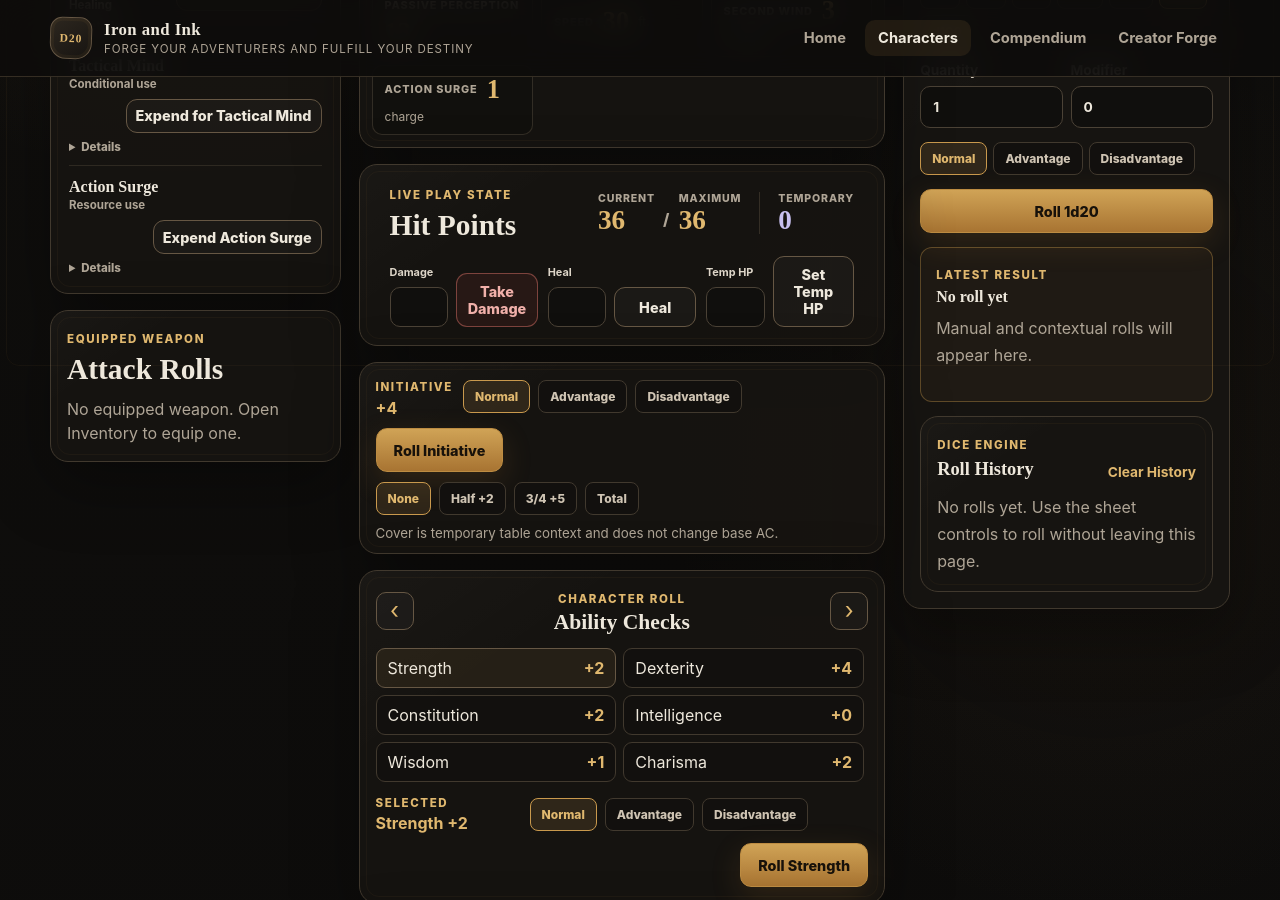
Test: Milestone 13A PLAY Initiative and temporary Cover flow › rolls Initiative from PLAY through manual plus automatic D20 context with transparent history
This screenshot has width=1280, height=900.
(page scrolled)
Click the button "Roll Initiative": (439, 450) [376,428,503,472]
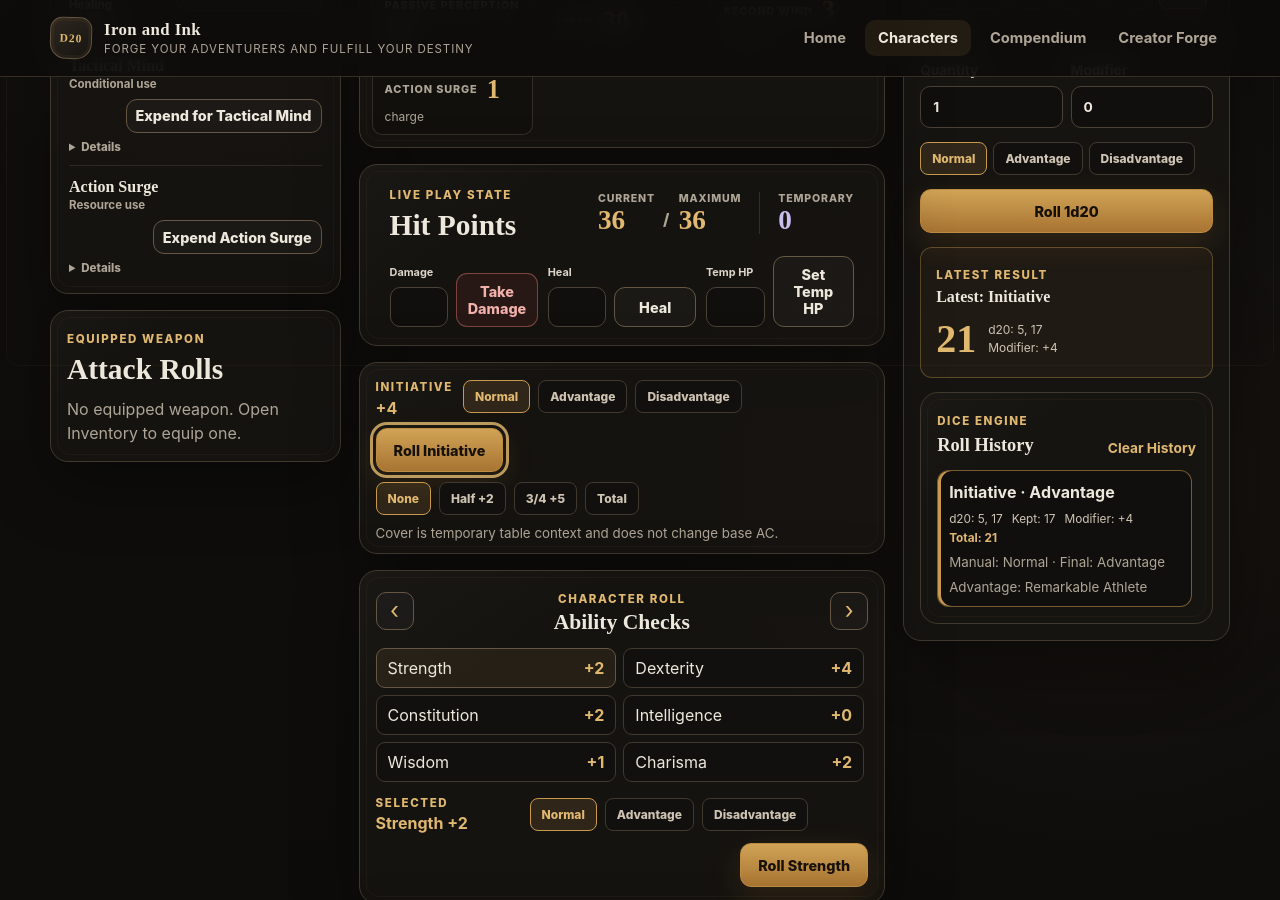
Expected: the text "d20: 5, 17" next to "Kept:" is shown, [949,512,1003,526]
Expected: the text "Total: 21" is shown, [949,531,997,545]
Expected: the text "Manual: Normal · Final: Advantage" is shown, [949,554,1165,570]
